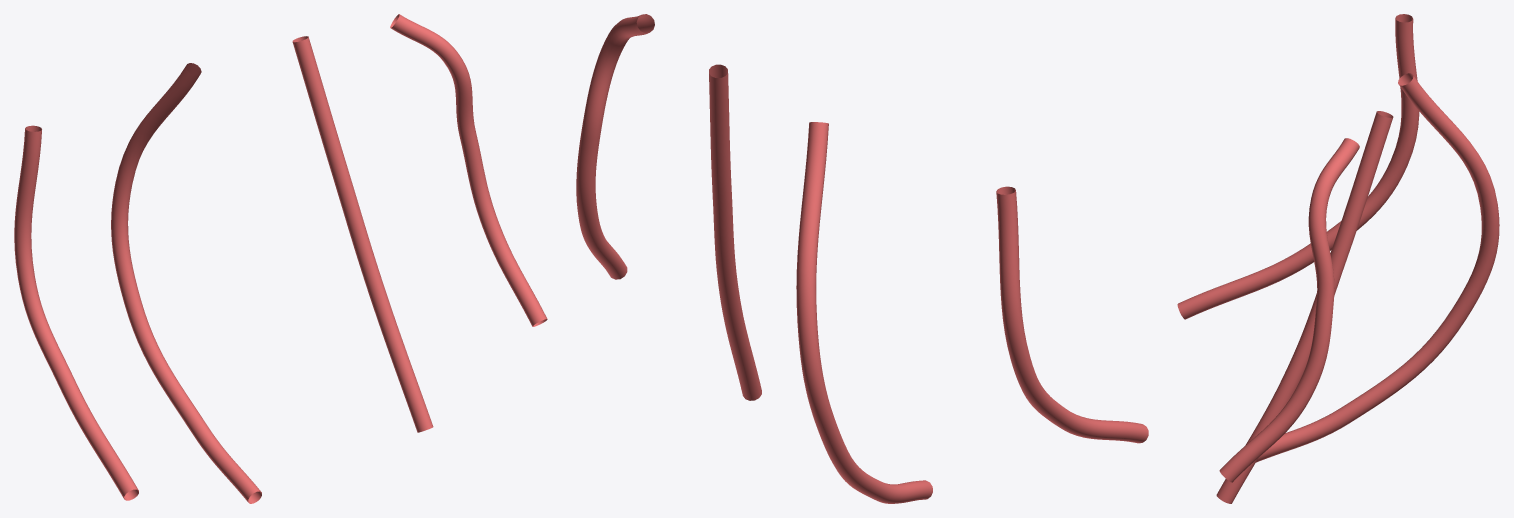
The model's file is Palmar_metacarpal_arteries.l_BezierCurve.378.glb.
3 views of the same model, side by side, from view 1: azimuth 30°, elevation 25°; view 2: azimuth 150°, elevation 25°; view 3: azimuth 270°, elevation 25° (orthographic). The views are drawn at different scales.
Parts seen in each view (by area): view 1: Palmar_metacarpal_arteries.l_BezierCurve.378; view 2: Palmar_metacarpal_arteries.l_BezierCurve.378; view 3: Palmar_metacarpal_arteries.l_BezierCurve.378.
Part boxes in pixels (box(x1,y1,x2,y2)): Palmar_metacarpal_arteries.l_BezierCurve.378: box(14, 14, 547, 503); Palmar_metacarpal_arteries.l_BezierCurve.378: box(576, 14, 1148, 503); Palmar_metacarpal_arteries.l_BezierCurve.378: box(1177, 14, 1499, 503).
Bounding box in the file's own units: 0.0421 × 0.0367 × 0.0253.
